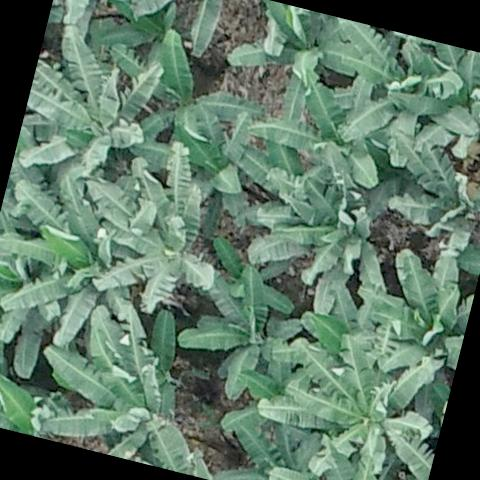Banana-plant: (19, 286, 228, 476), (232, 127, 418, 334), (59, 123, 243, 327), (244, 315, 458, 480), (88, 14, 283, 188), (0, 163, 157, 372), (12, 21, 172, 194), (163, 255, 320, 422), (292, 14, 445, 174), (340, 228, 480, 391), (374, 119, 480, 265), (375, 33, 480, 171), (221, 0, 331, 98), (263, 428, 431, 480), (42, 0, 141, 61)
